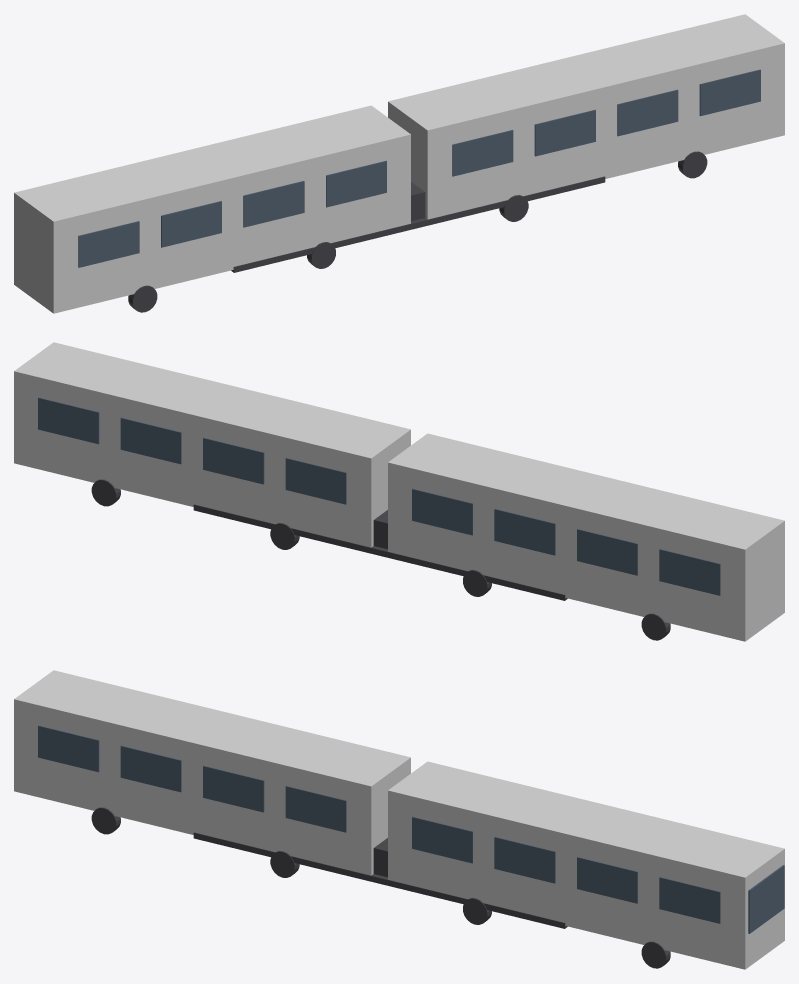
Rendered from tram.glb.
3 views of the same model, one above another, from view 1: azimuth 30°, elevation 25°; view 2: azimuth 150°, elevation 25°; view 3: azimuth 330°, elevation 25° (orthographic).
Visible parts, largest first — view 1: Cube, Cube.009, Cube.020, Cube.011, Cube.017, Cube.002, Cube.006, Cube.013, Cube.015, Cube.004, Cube.008, Cylinder.007 (+3 smaller); view 2: Cube, Cube.009, Cube.020, Cube.010, Cube.016, Cube.001, Cube.005, Cube.012, Cube.014, Cube.003, Cube.007, Cylinder.006 (+3 smaller); view 3: Cube.009, Cube, Cube.020, Cube.002, Cube.008, Cube.013, Cube.017, Cube.004, Cube.006, Cube.015, Cube.011, Cube.019 (+4 smaller).
Boxes of the visible parts, <box> form: Cube: <box>14,105,410,313</box>; Cube.009: <box>388,14,784,219</box>; Cube.020: <box>231,176,605,272</box>; Cube.011: <box>452,130,513,176</box>; Cube.017: <box>699,69,760,116</box>; Cube.002: <box>78,221,139,267</box>; Cube.006: <box>243,181,304,227</box>; Cube.013: <box>534,110,595,156</box>; Cube.015: <box>617,89,678,136</box>; Cube.004: <box>161,201,221,247</box>; Cube.008: <box>326,160,386,207</box>; Cylinder.007: <box>678,151,707,178</box>; Cube: <box>388,433,784,641</box>; Cube.009: <box>14,342,410,547</box>; Cube.020: <box>193,504,567,600</box>; Cube.010: <box>285,458,346,504</box>; Cube.016: <box>38,397,99,444</box>; Cube.001: <box>659,549,720,595</box>; Cube.005: <box>494,509,555,555</box>; Cube.012: <box>203,438,264,484</box>; Cube.014: <box>120,417,181,464</box>; Cube.003: <box>577,529,637,575</box>; Cube.007: <box>412,488,472,535</box>; Cylinder.006: <box>91,479,120,506</box>; Cube.009: <box>388,761,784,969</box>; Cube: <box>14,670,410,875</box>; Cube.020: <box>193,832,567,928</box>; Cube.002: <box>38,725,99,772</box>; Cube.008: <box>285,786,346,832</box>; Cube.013: <box>494,837,555,883</box>; Cube.017: <box>659,877,720,923</box>; Cube.004: <box>120,745,181,792</box>; Cube.006: <box>203,766,264,812</box>; Cube.015: <box>577,857,637,903</box>; Cube.011: <box>412,816,472,863</box>; Cube.019: <box>748,865,784,933</box>.
Size of the model in its own units: 26.68 by 3.9 by 2.6.
